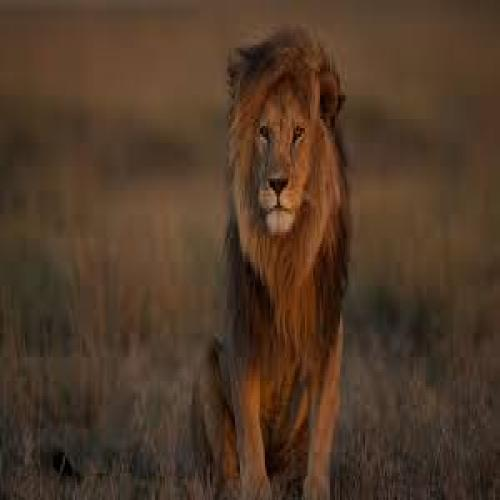lion-endangered: (196, 35, 346, 500)
